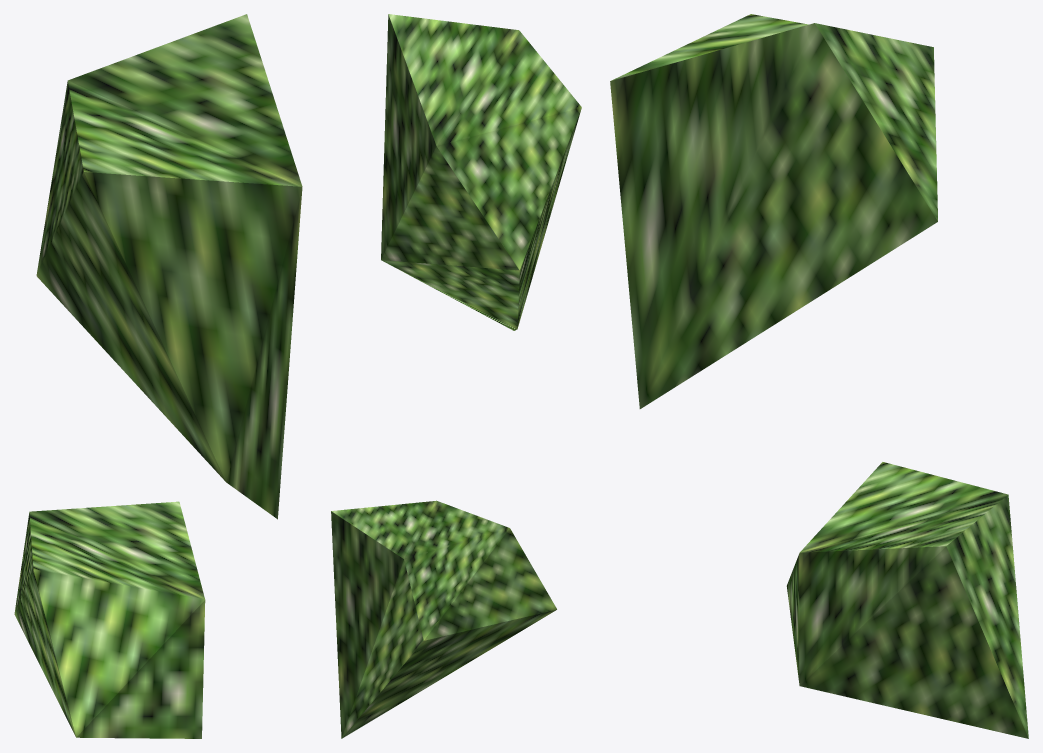
Rendered from Hojas1.obj.
3 renders of one model, left to right at view 1: azimuth 30°, elevation 25°; view 2: azimuth 150°, elevation 25°; view 3: azimuth 270°, elevation 25°, orthographic. The views are drawn at different scales.
Visible parts, largest first — view 1: Cube, Cube1; view 2: Cube, Cube1; view 3: Cube, Cube1.
Boxes of the visible parts, x1,y1,x2,y2 form: Cube: (36,14,302,519); Cube1: (14,501,205,738); Cube: (381,14,581,330); Cube1: (331,500,556,738); Cube: (610,14,937,408); Cube1: (786,462,1028,738).
Size of the model in its own units: 0.2193 by 0.8152 by 0.417.
4 materials, 4 textured.
